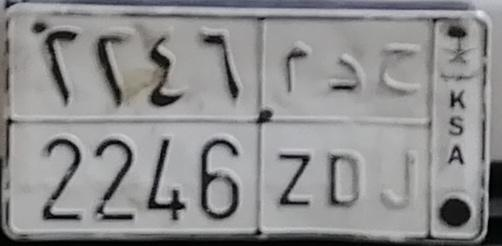2: (92, 30, 136, 224), (40, 26, 82, 222)
4: (147, 29, 189, 222)
6: (197, 25, 245, 221)
D: (326, 54, 364, 207)
J: (378, 43, 423, 212)
Z: (276, 41, 314, 209)
